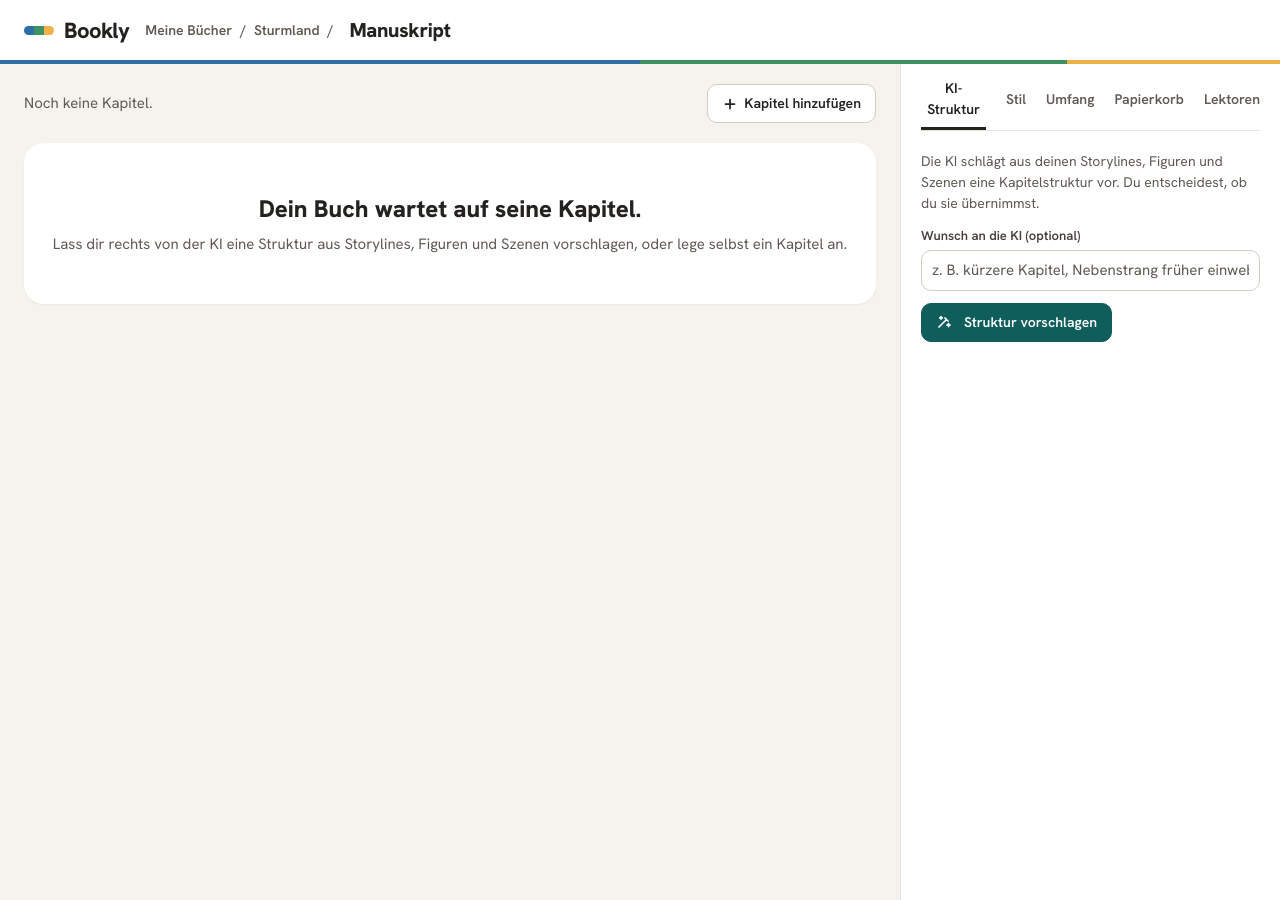
LengthPanel › clears the stored range with null
Click the tab "Umfang" at (1070, 99), box 1046,68 -> 1094,130
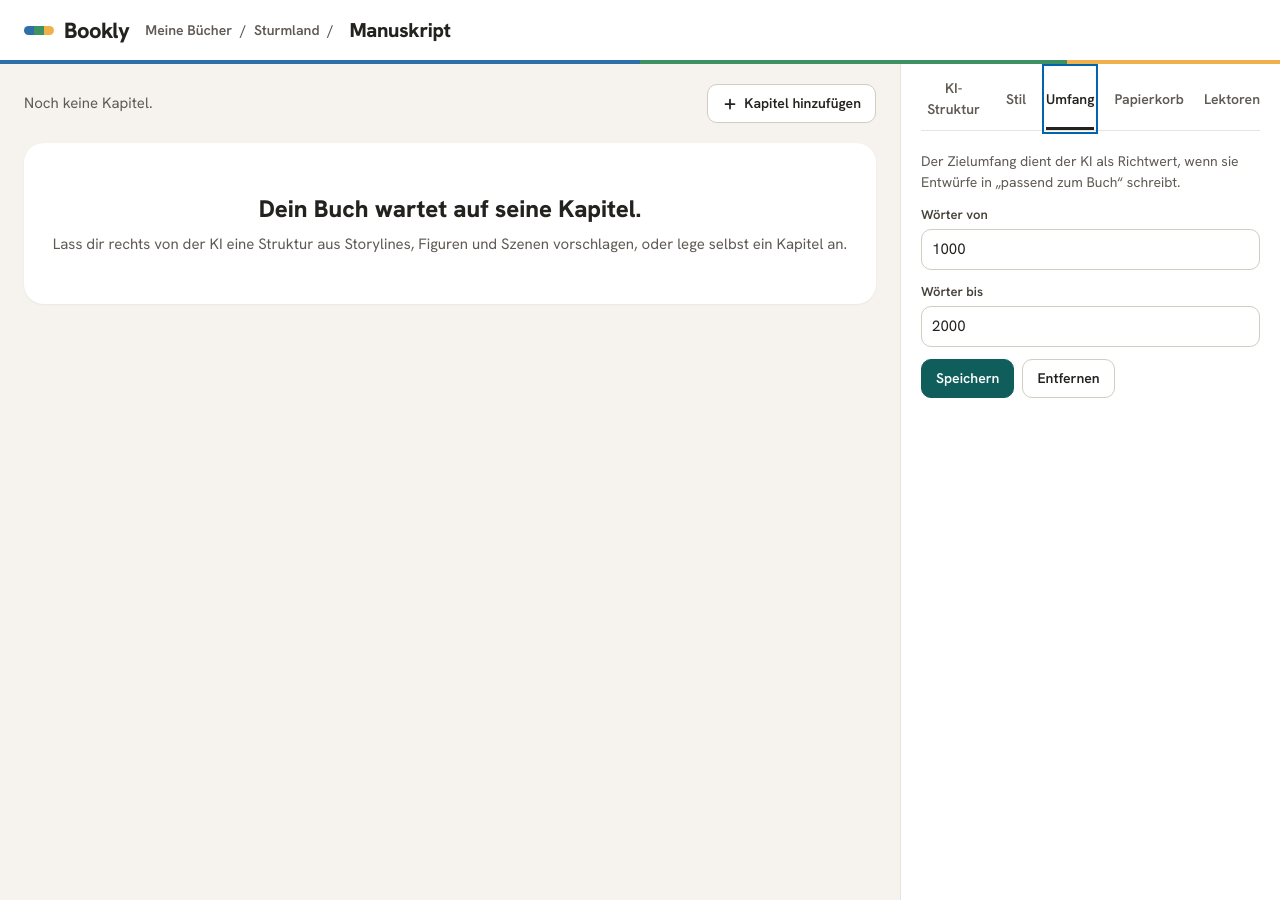
Check: the number field labelled "Wörter von" holds "1000", box 921,229 -> 1260,270
Click the button "Entfernen" at (1068, 378), box 1022,359 -> 1115,398
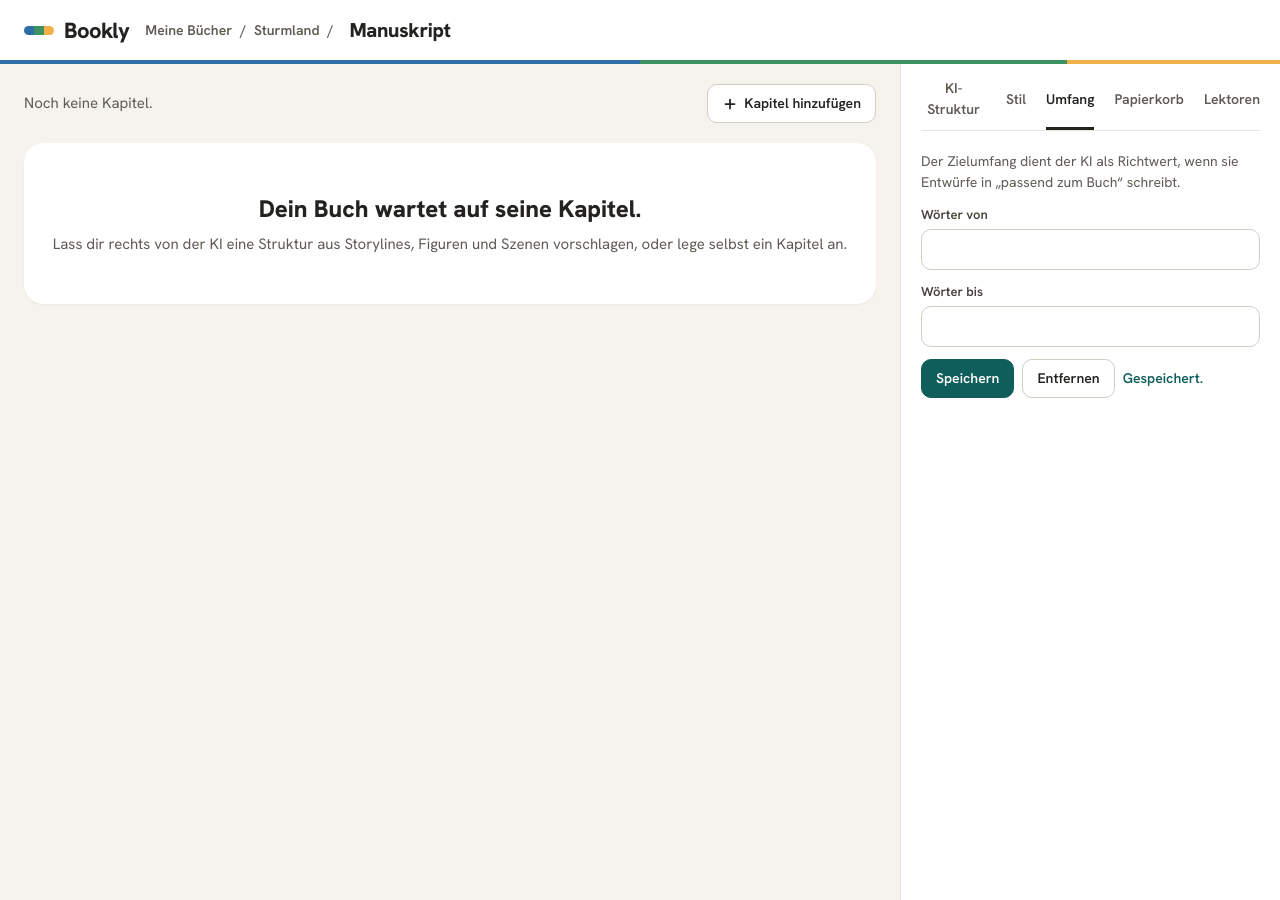
Check: the message "Gespeichert." is shown, box 1123,368 -> 1203,389
